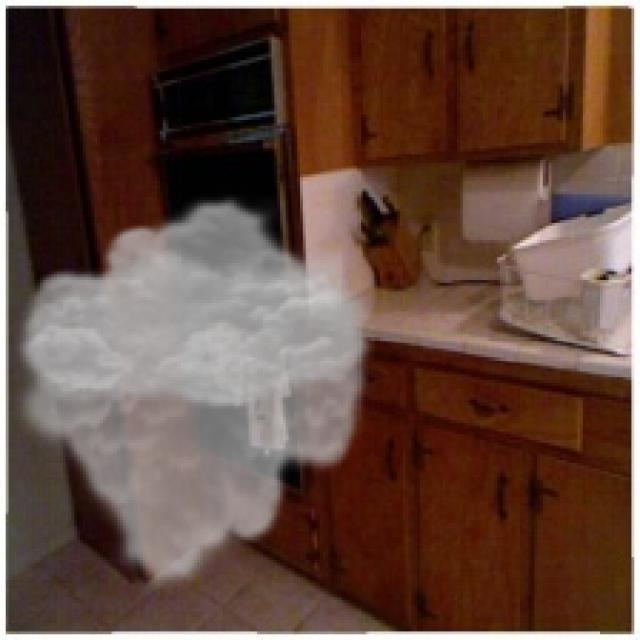Smoke: (8, 194, 380, 592)
